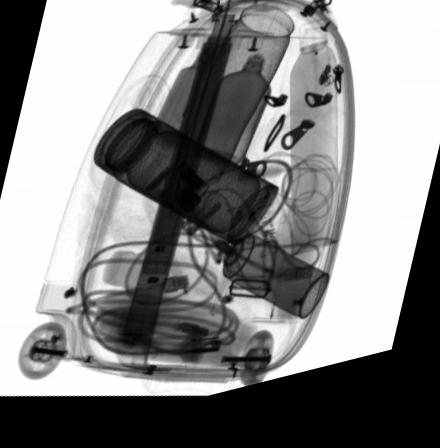Sprayer: (208, 234, 329, 333)
